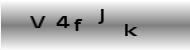4: (54, 15, 70, 29)
J: (97, 8, 105, 25)
V: (28, 14, 45, 29)
f: (72, 17, 83, 31)
k: (123, 23, 138, 36)
